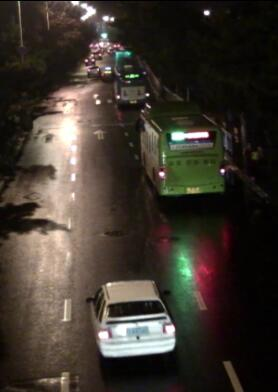bus: (134, 100, 228, 200), (113, 60, 149, 103)
car: (85, 281, 178, 365), (99, 63, 113, 76), (86, 65, 98, 75), (83, 55, 95, 64), (91, 50, 102, 59)
